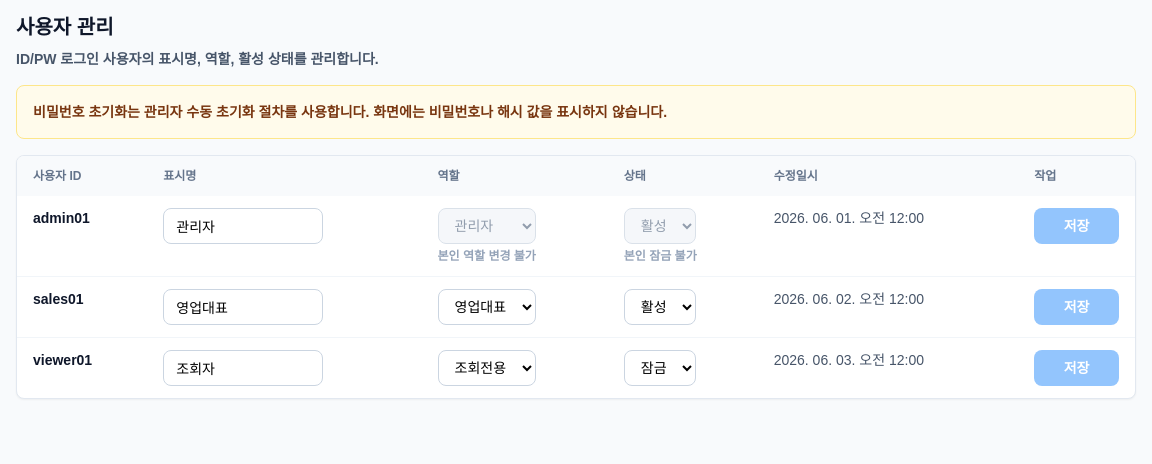
Scenario: UserManagementPage › displays save errors
Step 1. Select "조회전용" in the dropdown named "sales01 역할" → (487, 307), box [438,289,536,325]
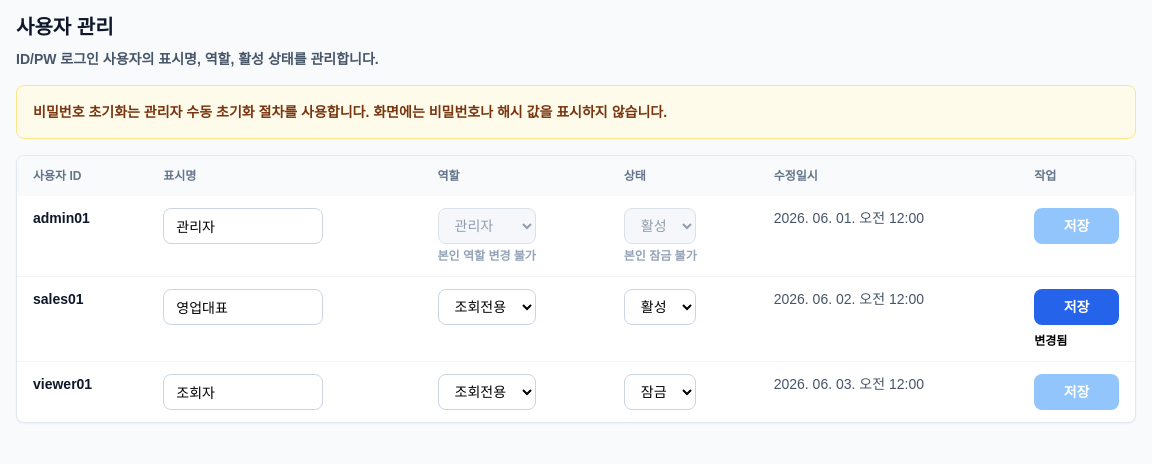
Step 2. Click the button "저장" in the row of "sales01" → (1077, 307), box [1034,289,1119,325]
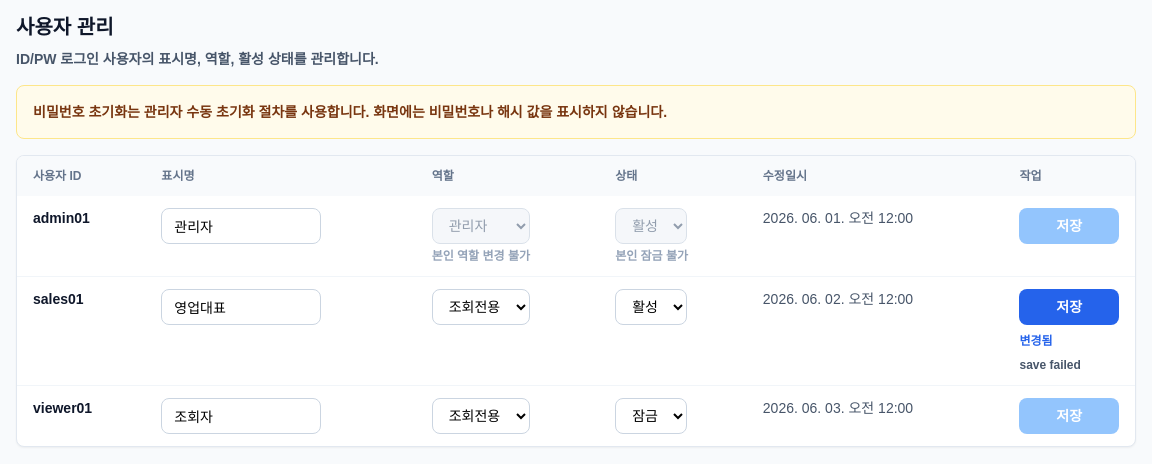
Result: the text "save failed" is shown at [1020,358,1081,372]
